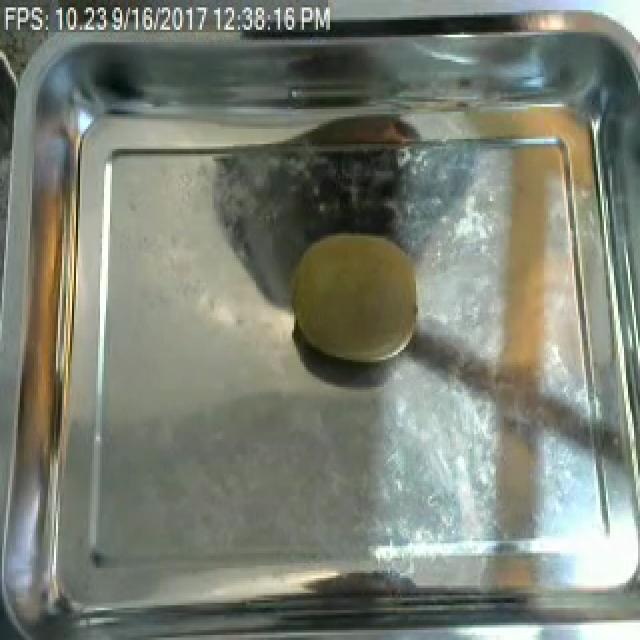Fruit: (282, 223, 428, 372), (484, 417, 550, 543)
